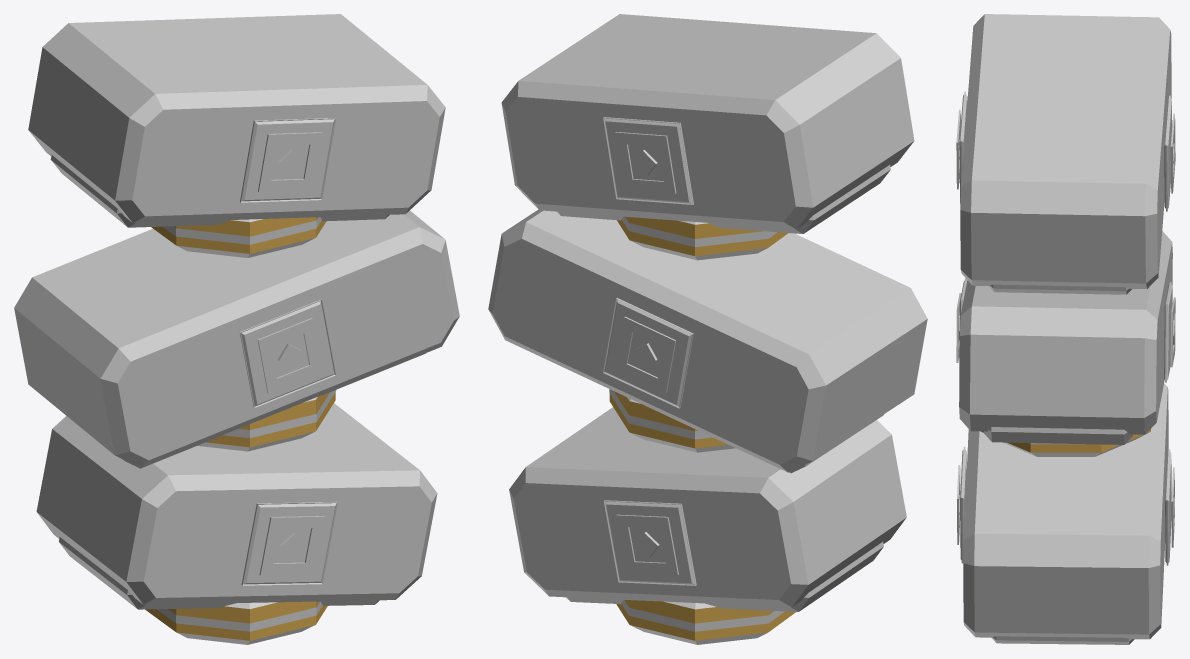
Rendered from wand_motion_19.obj.
3 renders of one model, left to right at view 1: azimuth 30°, elevation 25°; view 2: azimuth 150°, elevation 25°; view 3: azimuth 270°, elevation 25°, orthographic. The views are drawn at different scales.
Visible parts, largest first — view 1: chamfered_seal_tablet_1, chamfered_seal_tablet_2, chamfered_seal_tablet_0, inset_rune_socket_3, inset_rune_socket_5, inset_rune_socket_1, tablet_spacer_0, tablet_spacer_2, tablet_spacer_1, seal_shadow_base_0, seal_shadow_base_2, tablet_spacer_dark_seam_0 (+2 smaller); view 2: chamfered_seal_tablet_1, chamfered_seal_tablet_2, chamfered_seal_tablet_0, inset_rune_socket_0, inset_rune_socket_4, inset_rune_socket_2, tablet_spacer_0, tablet_spacer_2, tablet_spacer_1, seal_shadow_base_2, seal_shadow_base_0, tablet_spacer_dark_seam_0 (+2 smaller); view 3: chamfered_seal_tablet_2, chamfered_seal_tablet_0, chamfered_seal_tablet_1, seal_shadow_base_1, tablet_spacer_1, seal_shadow_base_2, seal_shadow_base_0, inset_rune_socket_4, inset_rune_socket_0, inset_rune_socket_2, inset_rune_socket_1, inset_rune_socket_5.
Part boxes in pixels (box(x1,y1,x2,y2)): chamfered_seal_tablet_1: box(14, 210, 459, 467); chamfered_seal_tablet_2: box(28, 14, 445, 223); chamfered_seal_tablet_0: box(36, 403, 437, 604); inset_rune_socket_3: box(239, 299, 335, 407); inset_rune_socket_5: box(240, 118, 335, 202); inset_rune_socket_1: box(241, 501, 337, 585); tablet_spacer_0: box(145, 601, 327, 644); tablet_spacer_2: box(151, 217, 326, 257); tablet_spacer_1: box(197, 392, 335, 451); seal_shadow_base_0: box(59, 537, 379, 609); seal_shadow_base_2: box(50, 155, 389, 227); tablet_spacer_dark_seam_0: box(157, 601, 322, 631); chamfered_seal_tablet_1: box(488, 209, 927, 472); chamfered_seal_tablet_2: box(501, 14, 914, 229); chamfered_seal_tablet_0: box(509, 407, 906, 607); inset_rune_socket_0: box(603, 500, 696, 585); inset_rune_socket_4: box(603, 117, 693, 204); inset_rune_socket_2: box(603, 298, 693, 408); tablet_spacer_0: box(616, 600, 795, 644); tablet_spacer_2: box(617, 216, 788, 260); tablet_spacer_1: box(609, 391, 735, 452); seal_shadow_base_2: box(557, 165, 890, 233); seal_shadow_base_0: box(566, 542, 883, 611); tablet_spacer_dark_seam_0: box(621, 600, 784, 631); chamfered_seal_tablet_2: box(960, 14, 1171, 288); chamfered_seal_tablet_0: box(963, 383, 1168, 639); chamfered_seal_tablet_1: box(959, 231, 1172, 434); seal_shadow_base_1: box(983, 427, 1133, 444); tablet_spacer_1: box(981, 429, 1150, 456); seal_shadow_base_2: box(989, 284, 1131, 294); seal_shadow_base_0: box(991, 636, 1134, 644); inset_rune_socket_4: box(1164, 95, 1172, 211); inset_rune_socket_0: box(1165, 449, 1171, 565); inset_rune_socket_2: box(1164, 282, 1172, 382); inset_rune_socket_1: box(960, 446, 966, 563); inset_rune_socket_5: box(959, 91, 967, 203).
Size of the model in its own units: 0.1994 by 0.3091 by 0.1147.
